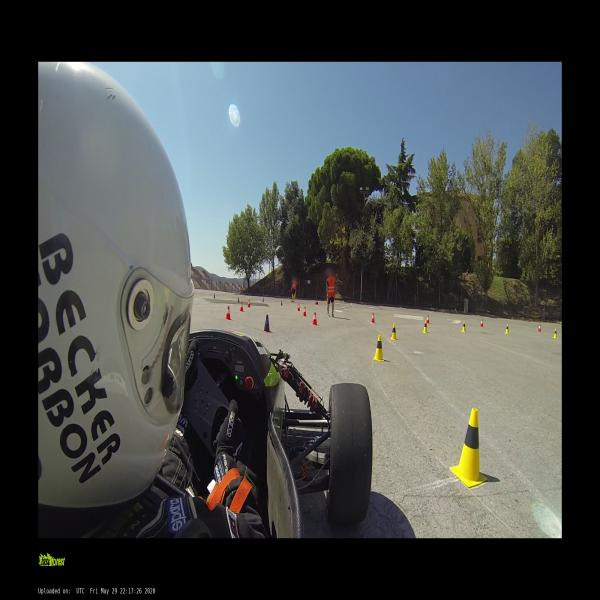blue_cone: (264, 314, 270, 333), (281, 300, 283, 306), (238, 296, 240, 302), (262, 297, 264, 302), (214, 293, 215, 298)
orange_cone: (226, 306, 231, 320), (313, 312, 317, 326), (303, 306, 307, 316), (371, 313, 375, 323), (240, 302, 244, 312), (426, 315, 430, 324), (481, 318, 484, 327), (538, 324, 541, 332), (298, 302, 300, 312), (248, 300, 250, 308)
yellow_cone: (453, 407, 486, 487), (374, 334, 384, 361), (390, 324, 398, 340), (423, 320, 428, 334), (461, 321, 466, 332), (553, 328, 558, 339), (505, 323, 509, 334)
